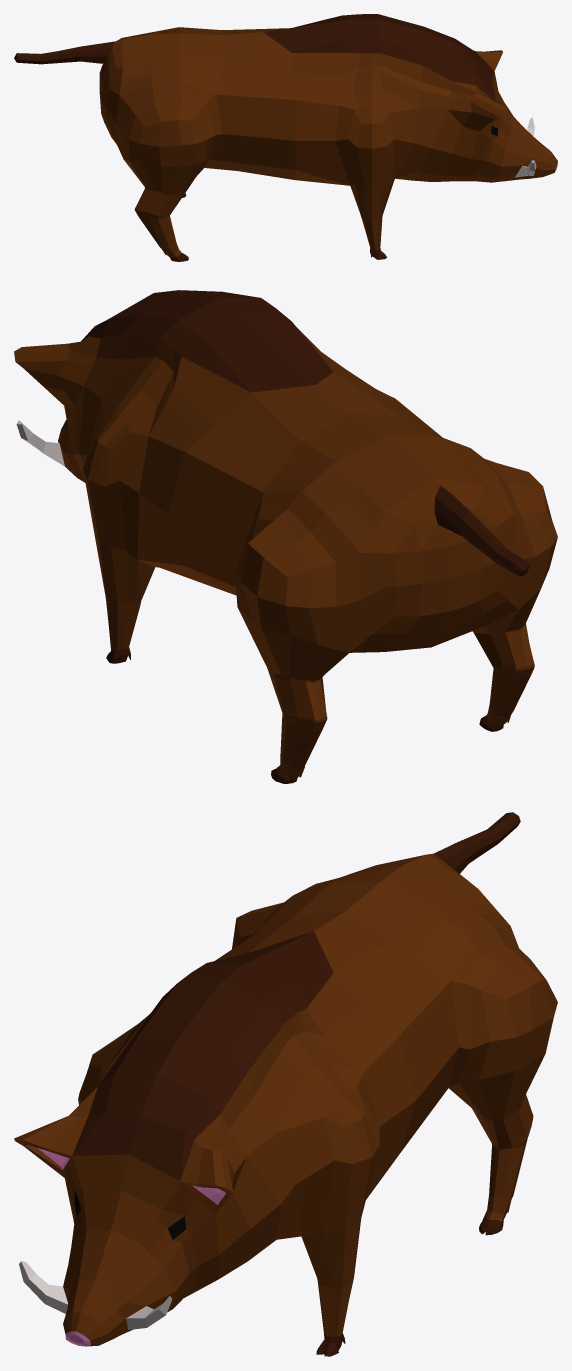
File: boar.glb
3 views of the same model, one above another, from view 1: azimuth 30°, elevation 25°; view 2: azimuth 150°, elevation 25°; view 3: azimuth 270°, elevation 25° (orthographic). The views are drawn at different scales.
Visible parts, largest first — view 1: jabali_Material #54_0, jabali_Material #60_0, jabali_Material #55_0; view 2: jabali_Material #54_0, jabali_Material #60_0, jabali_Material #55_0; view 3: jabali_Material #54_0, jabali_Material #60_0, jabali_Material #55_0, jabali_Material #57_0.
Boxes of the visible parts, box(x1,y1,x2,y2) form: jabali_Material #54_0: box(99, 27, 557, 257); jabali_Material #60_0: box(14, 14, 495, 261); jabali_Material #55_0: box(515, 117, 536, 177); jabali_Material #54_0: box(14, 328, 557, 780); jabali_Material #60_0: box(81, 290, 529, 783); jabali_Material #55_0: box(16, 420, 64, 466); jabali_Material #54_0: box(14, 853, 557, 1346); jabali_Material #60_0: box(72, 812, 520, 1356); jabali_Material #55_0: box(19, 1261, 171, 1329); jabali_Material #57_0: box(38, 1148, 225, 1346).
Size of the model in its own units: 1.27 by 0.6052 by 0.8644.
